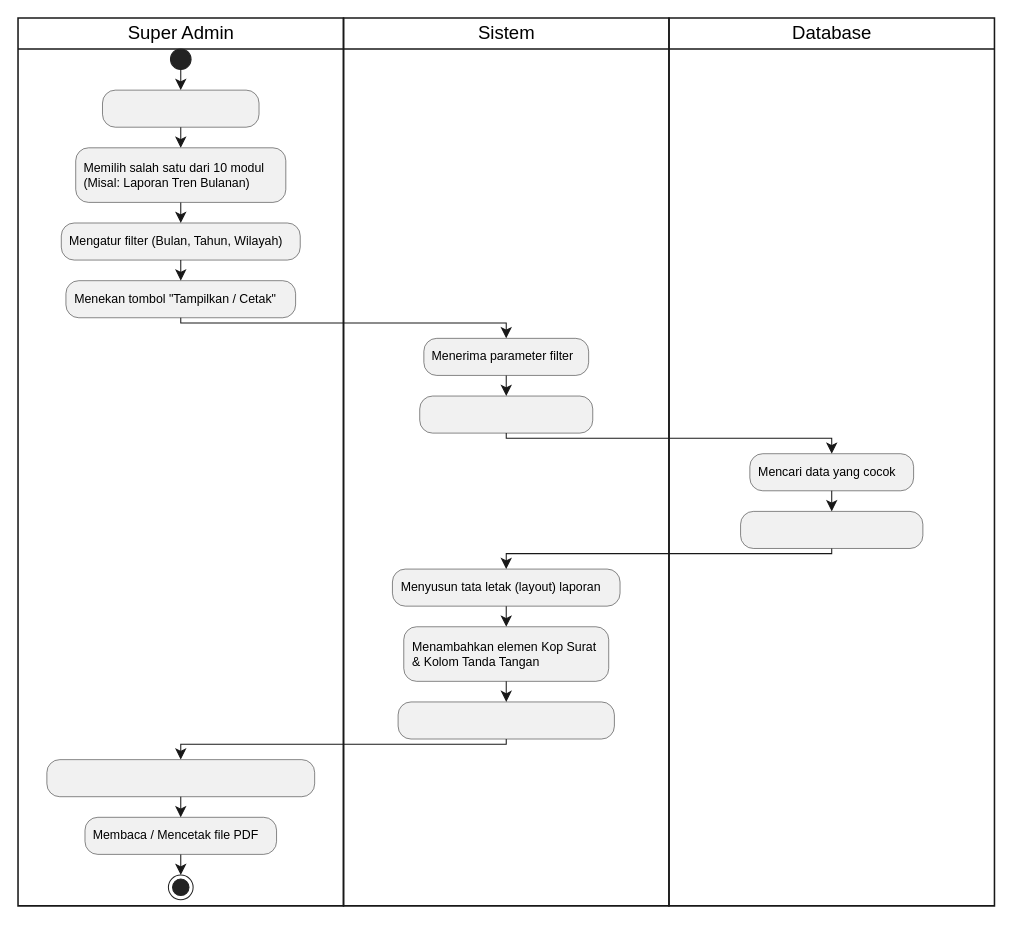
This 1014x925 diagram has some shape labels left out. Here are the shapes that lost their labels. From the top down, the centre of each, then its label:
pixel 180 108: Memilih menu "Laporan"
pixel 506 414: Menyusun query pencarian
pixel 831 529: Mengirim set data ke sistem
pixel 505 720: Melakukan konversi ke format PDF
pixel 180 777: Menerima kotak dialog unduhan (Download)
